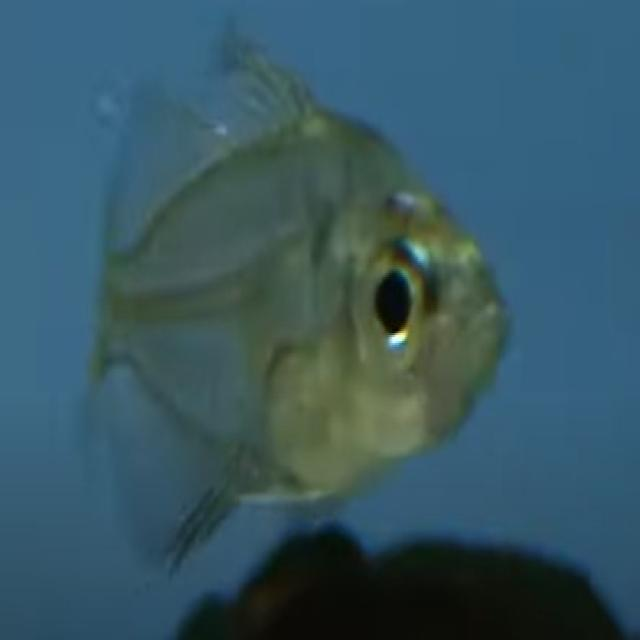Glass-Perchlet: (34, 27, 558, 612)
